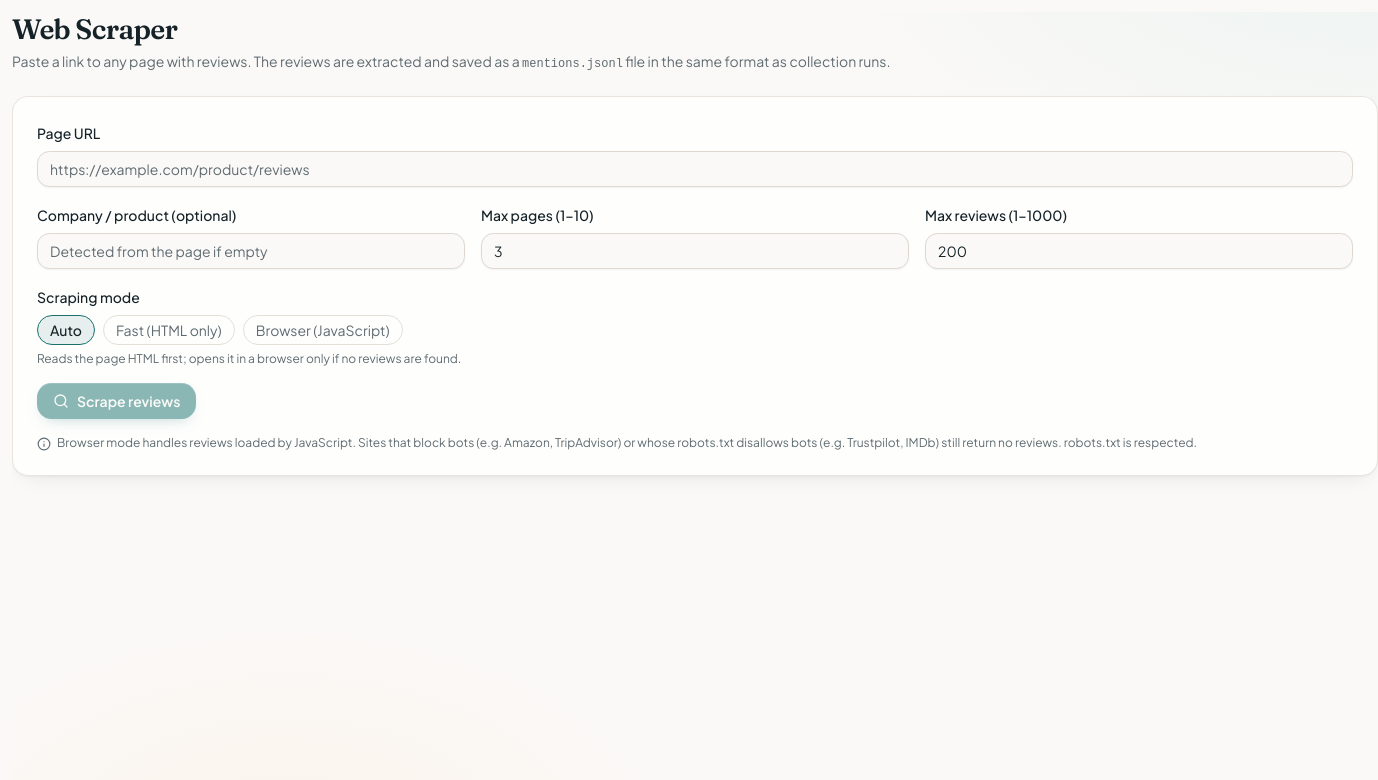
it: Web Scraper page › shows the error and no download for a failed scrape
This screenshot has width=1378, height=780.
In the field with test id "scrape-url": (695, 169) [37,151,1353,187], type "https://blocked.example/"
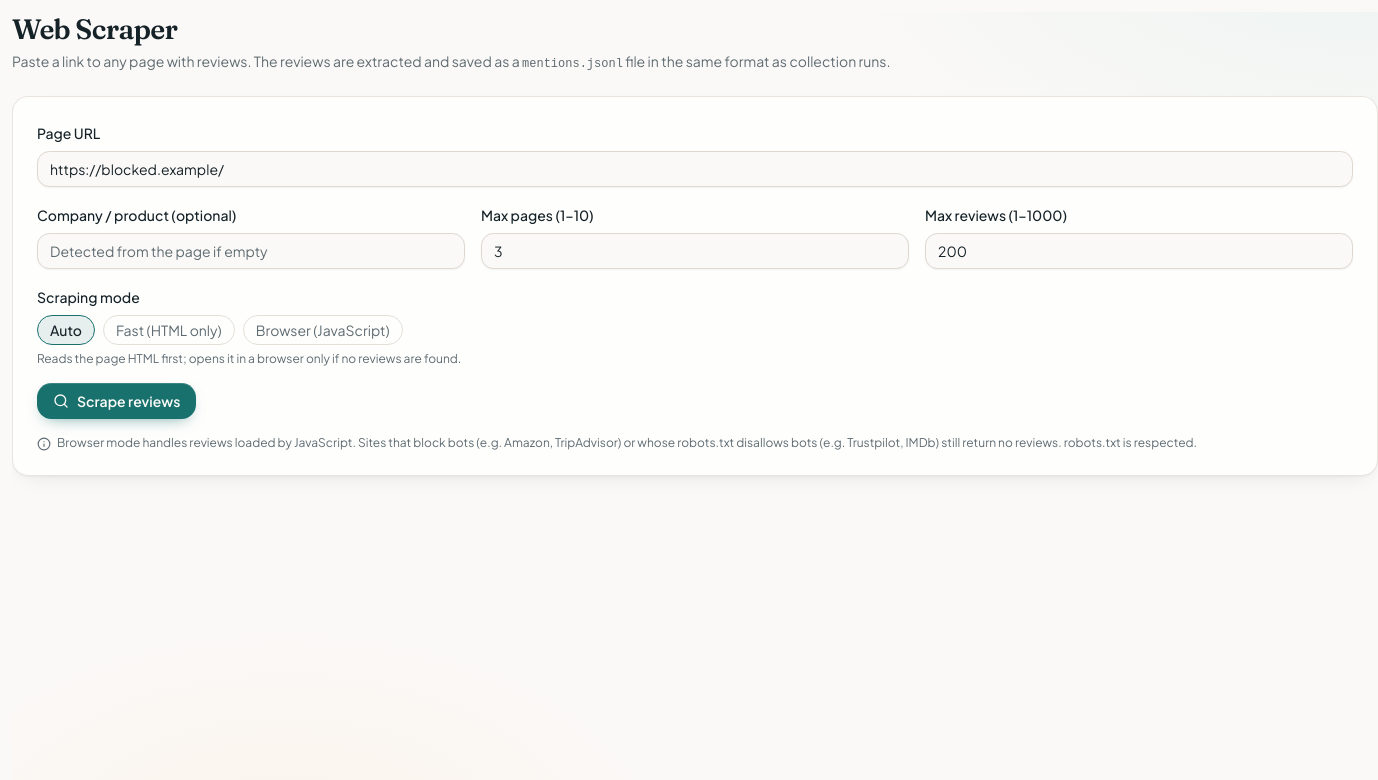
Click the button with test id "scrape-submit": (117, 401) [37,383,196,419]
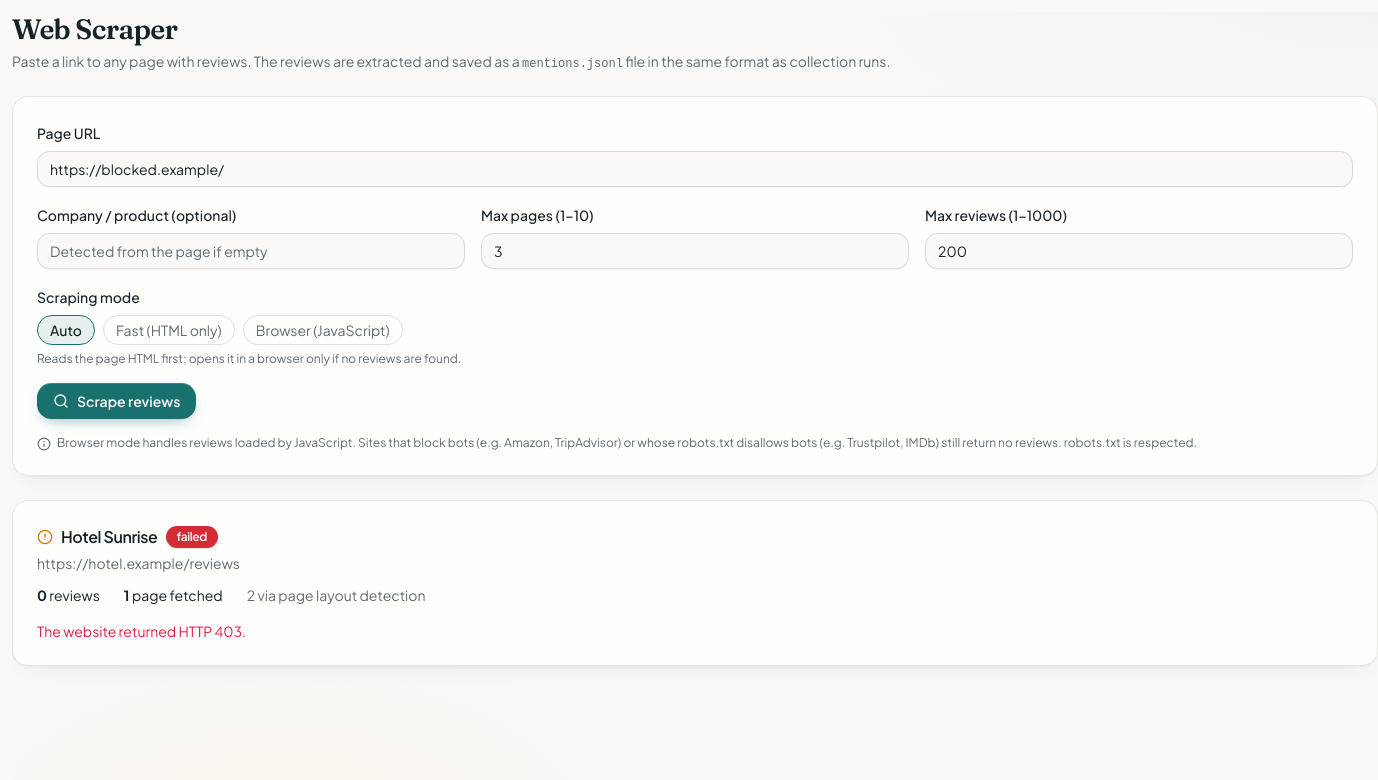
Now the text with test id "scrape-error" shows "HTTP 403", box [37,622,246,640]
